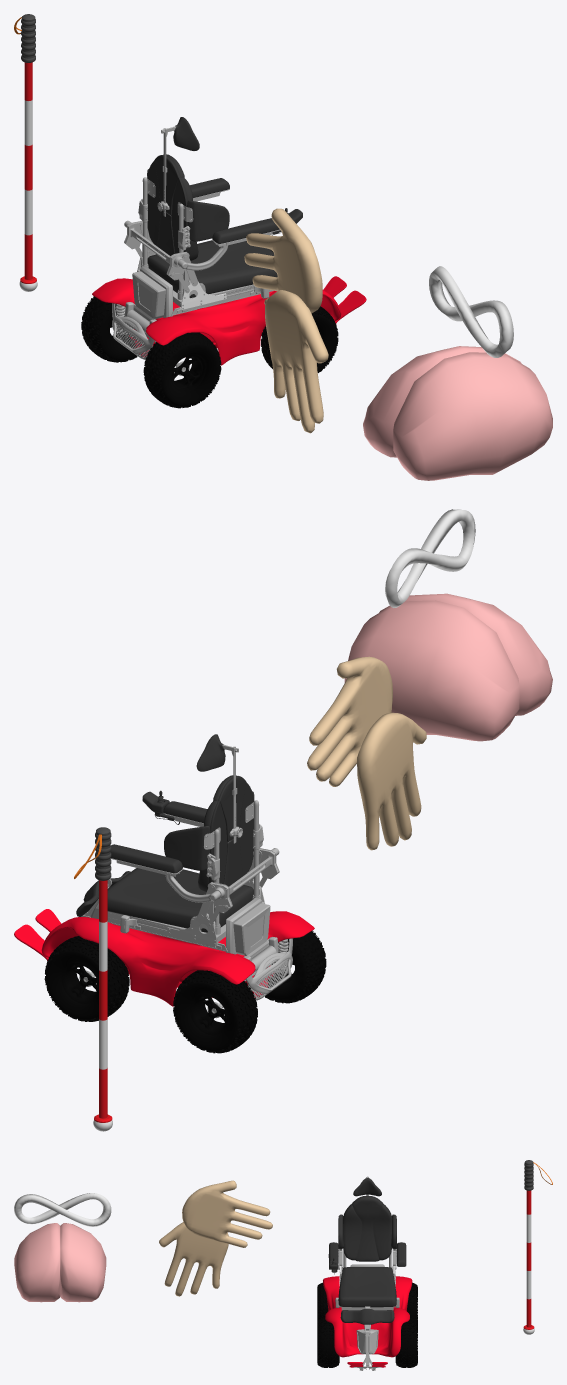
The model's file is Tokens.fbx.
3 views of the same model, one above another, from view 1: azimuth 30°, elevation 25°; view 2: azimuth 150°, elevation 25°; view 3: azimuth 270°, elevation 25° (orthographic). The views are drawn at different scales.
Parts seen in each view (by area): view 1: _grouppasted__polySurface350pasted__polySurface101.001, Cube.011, Cube.009, polySurface99.001, Cube.010, Infinity_loop.001, Sphere.003, polySurface135.001, polySurface130.001, Sphere.002; view 2: _grouppasted__polySurface350pasted__polySurface101.001, Cube.011, Cube.009, Cube.010, polySurface135.001, polySurface132.001, Infinity_loop.001, polySurface99.001, Sphere.003, Sphere.002; view 3: _grouppasted__polySurface350pasted__polySurface101.001, Cube.011, Cube.010, Cube.009, Infinity_loop.001, Sphere.003, polySurface130.001, polySurface132.001, Sphere.002, polySurface99.001, polySurface135.001.
Boxes of the visible parts, <box> form: _grouppasted__polySurface350pasted__polySurface101.001: <box>92,117,366,375</box>; Cube.011: <box>363,346,552,480</box>; Cube.009: <box>265,290,328,433</box>; polySurface99.001: <box>143,332,221,408</box>; Cube.010: <box>244,208,322,313</box>; Infinity_loop.001: <box>429,266,513,357</box>; Sphere.003: <box>19,62,37,291</box>; polySurface135.001: <box>81,296,137,362</box>; polySurface130.001: <box>261,306,338,372</box>; Sphere.002: <box>14,14,35,62</box>; _grouppasted__polySurface350pasted__polySurface101.001: <box>14,734,314,1018</box>; Cube.011: <box>344,593,552,741</box>; Cube.009: <box>357,712,426,850</box>; Cube.010: <box>307,656,392,786</box>; polySurface135.001: <box>173,970,257,1053</box>; polySurface132.001: <box>44,936,129,1021</box>; Infinity_loop.001: <box>385,509,475,607</box>; polySurface99.001: <box>265,930,326,1003</box>; Sphere.003: <box>93,880,112,1131</box>; Sphere.002: <box>74,827,111,880</box>; _grouppasted__polySurface350pasted__polySurface101.001: <box>323,1176,412,1370</box>; Cube.011: <box>14,1223,106,1302</box>; Cube.010: <box>182,1180,272,1247</box>; Cube.009: <box>159,1222,228,1296</box>; Infinity_loop.001: <box>14,1193,111,1226</box>; Sphere.003: <box>523,1190,534,1334</box>; polySurface130.001: <box>317,1318,339,1367</box>; polySurface132.001: <box>395,1318,417,1367</box>; Sphere.002: <box>524,1160,552,1190</box>; polySurface99.001: <box>317,1282,328,1322</box>; polySurface135.001: <box>407,1282,417,1322</box>.
Bounding box in the file's own units: 381 × 427 × 1202.
